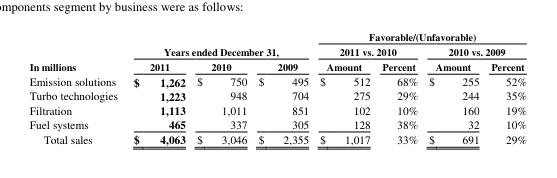table: (28, 29, 526, 147)
table column: (28, 29, 124, 147), (124, 29, 190, 147), (190, 29, 252, 147), (313, 29, 375, 147), (422, 29, 484, 147), (252, 29, 313, 147), (375, 29, 422, 147), (484, 29, 526, 147)
table column header: (28, 29, 526, 73)
table row: (28, 131, 526, 147), (28, 29, 526, 44), (28, 44, 526, 59), (28, 73, 526, 88), (28, 116, 526, 131), (28, 59, 526, 73), (28, 88, 526, 102), (28, 102, 526, 116)
table spanning cell: (124, 29, 313, 59), (28, 29, 124, 73), (313, 29, 526, 44), (313, 44, 422, 59), (422, 44, 526, 59)
